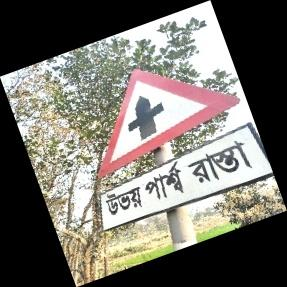Crossroad: (98, 68, 275, 226)
